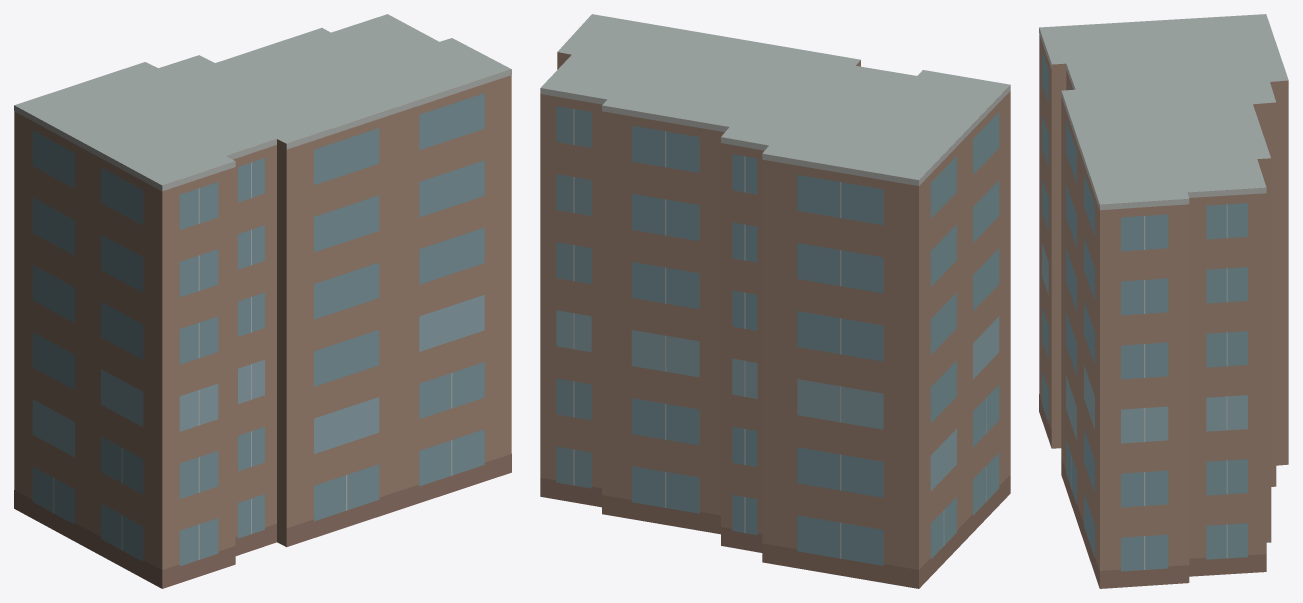
The model's file is survey-upis-32639617.glb.
3 renders of one model, left to right at view 1: azimuth 30°, elevation 25°; view 2: azimuth 150°, elevation 25°; view 3: azimuth 270°, elevation 25°, orthographic. The views are drawn at different scales.
Visible parts, largest first — view 1: survey-upis-32639617.tmp; view 2: survey-upis-32639617.tmp; view 3: survey-upis-32639617.tmp.
Boxes of the visible parts, left/top/right/bottom form: survey-upis-32639617.tmp: left=14, top=14, right=511, bottom=588; survey-upis-32639617.tmp: left=540, top=14, right=1010, bottom=588; survey-upis-32639617.tmp: left=1039, top=14, right=1288, bottom=588.
Bounding box in the file's own units: 17.89 × 16.8 × 9.9.
